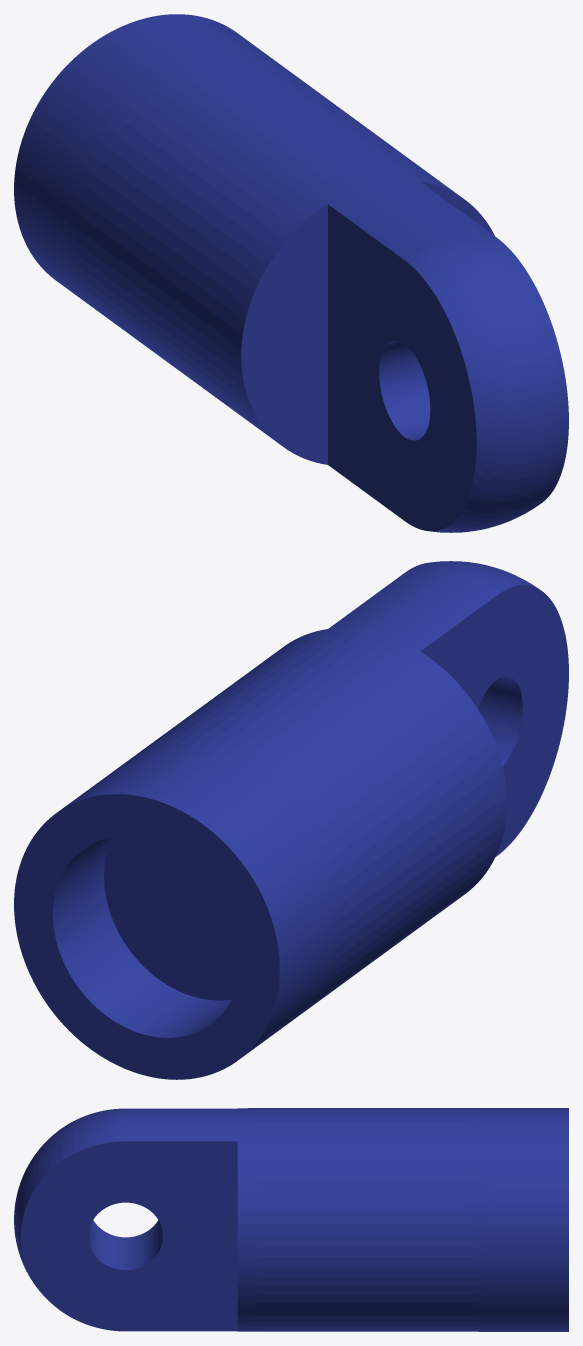
The picture shows the model from 3 angles, top to bottom: view 1: azimuth 30°, elevation 25°; view 2: azimuth 150°, elevation 25°; view 3: azimuth 270°, elevation 25°; orthographic projection. The views are drawn at different scales.
Visible parts, largest first — view 1: node; view 2: node; view 3: node.
Boxes of the visible parts, x1,y1,x2,y2 form: node: (14,14,568,532); node: (14,561,568,1079); node: (14,1108,568,1331).
Bounding box in the file's own units: 0.0872 × 0.0871 × 0.2162.
